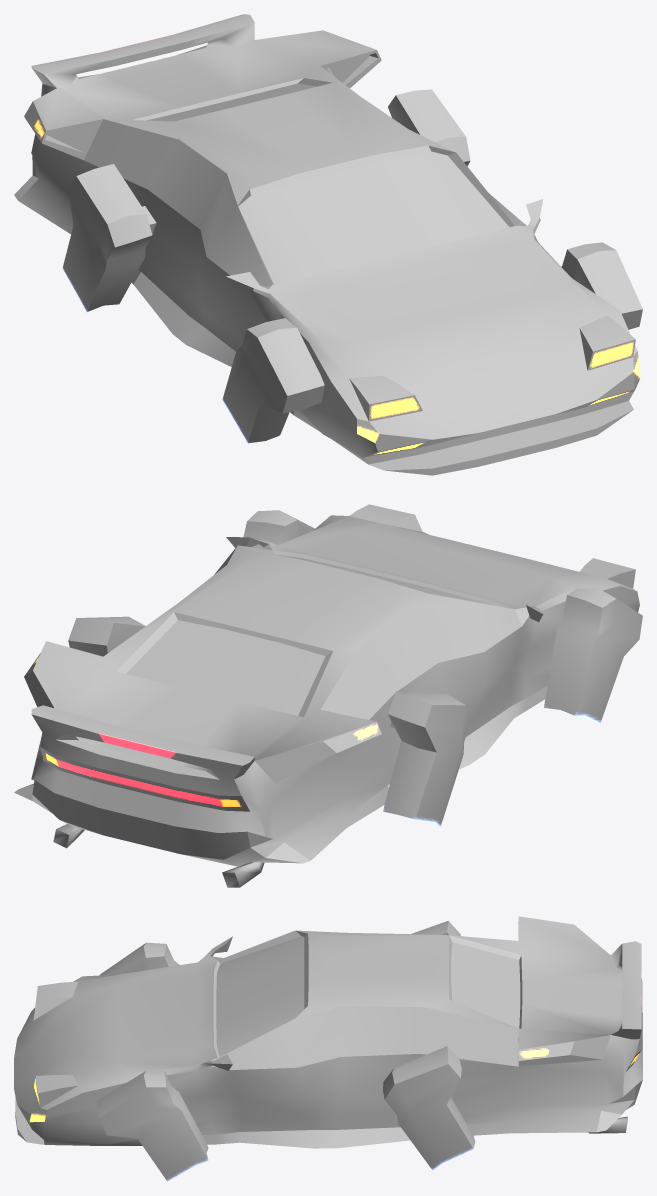
File: ConceptCar.fbx
The picture shows the model from 3 angles, top to bottom: view 1: azimuth 30°, elevation 25°; view 2: azimuth 150°, elevation 25°; view 3: azimuth 270°, elevation 25°; orthographic projection. The views are drawn at different scales.
Parts seen in each view (by area): view 1: Car; view 2: Car; view 3: Car.
Boxes of the visible parts, x1,y1,x2,y2 form: Car: [14, 14, 642, 475]; Car: [14, 504, 642, 887]; Car: [14, 916, 642, 1181].
Bounding box in the file's own units: 224 × 101 × 401.
